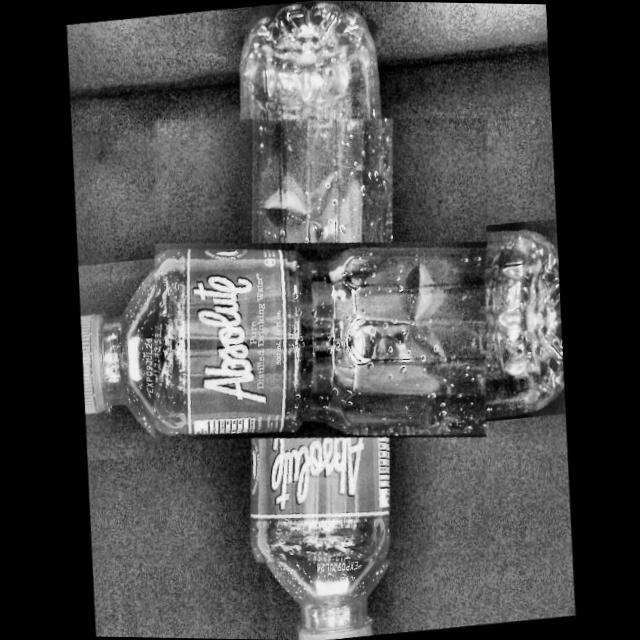Plastic-Bottle: (129, 89, 510, 591)
